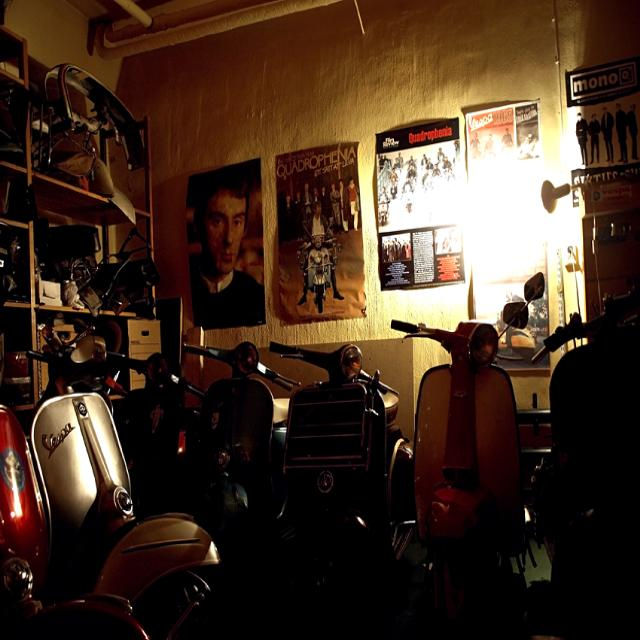Motorbike: (346, 297, 542, 640), (12, 314, 193, 640), (541, 269, 640, 633), (272, 332, 402, 581), (182, 336, 286, 569)
